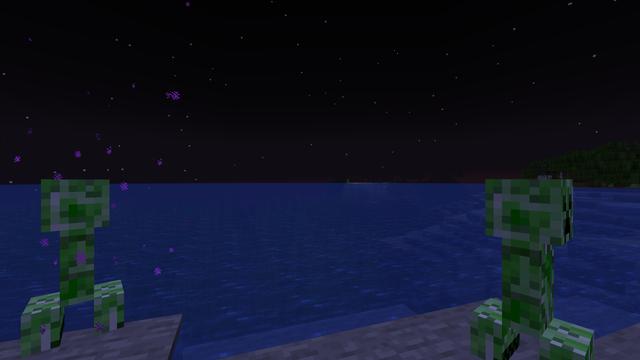creepers: (472, 169, 593, 359), (20, 171, 122, 353)
